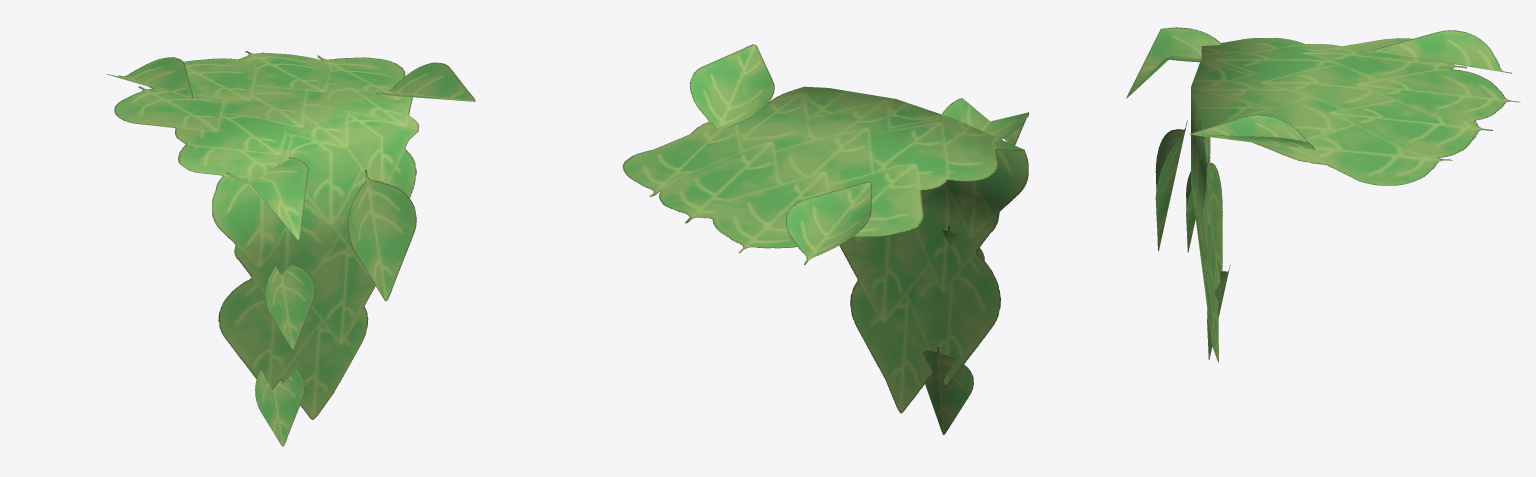
File: LeafSetB_18.fbx
3 renders of one model, left to right at view 1: azimuth 30°, elevation 25°; view 2: azimuth 150°, elevation 25°; view 3: azimuth 270°, elevation 25°, orthographic. The views are drawn at different scales.
Visible parts, largest first — view 1: LeafSetB_18; view 2: LeafSetB_18; view 3: LeafSetB_18.
Part boxes in pixels (x1,y1,x2,y2): LeafSetB_18: (107, 51, 475, 446); LeafSetB_18: (622, 44, 1028, 434); LeafSetB_18: (1126, 27, 1520, 362).
Bounding box in the file's own units: 0.5213 × 0.4923 × 0.5364.
